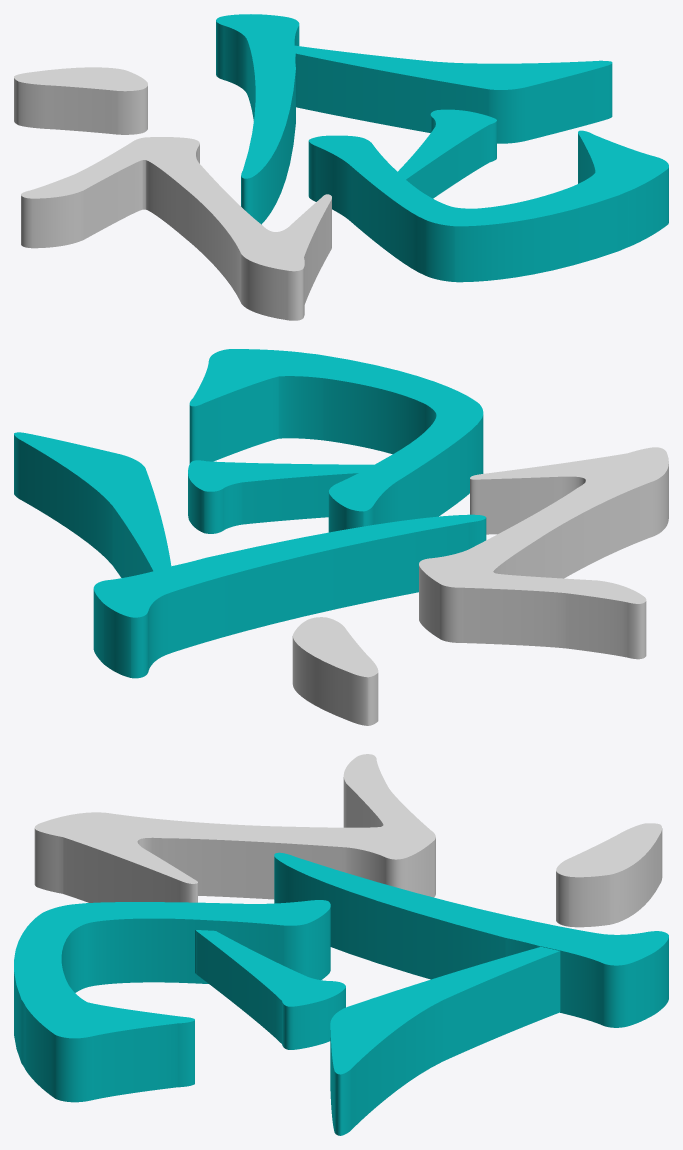
Rendered from hanzi225.fbx.
3 views of the same model, one above another, from view 1: azimuth 30°, elevation 25°; view 2: azimuth 150°, elevation 25°; view 3: azimuth 270°, elevation 25° (orthographic). The views are drawn at different scales.
Parts seen in each view (by area): view 1: Curve.005, Curve.001, Curve.003, Curve.002, Curve, Curve.004; view 2: Curve.001, Curve.005, Curve.002, Curve.003, Curve.004, Curve; view 3: Curve.005, Curve.001, Curve.002, Curve.003, Curve.004, Curve.
Boxes of the visible parts, box(x1,y1,x2,y2) form: Curve.005: box(308, 130, 668, 282); Curve.001: box(21, 137, 331, 320); Curve.003: box(295, 45, 612, 143); Curve.002: box(216, 14, 299, 224); Curve: box(14, 67, 147, 134); Curve.004: box(398, 109, 496, 198); Curve.001: box(419, 447, 668, 659); Curve.005: box(189, 349, 483, 532); Curve.002: box(93, 514, 486, 678); Curve.003: box(14, 432, 171, 577); Curve.004: box(188, 460, 373, 533); Curve: box(292, 617, 378, 725); Curve.005: box(14, 900, 330, 1102); Curve.001: box(34, 754, 435, 902); Curve.002: box(274, 852, 668, 1027); Curve.003: box(330, 947, 560, 1135); Curve.004: box(195, 930, 345, 1049); Curve: box(556, 823, 662, 927).
Size of the model in its own units: 25.96 by 22.26 by 2.4.
